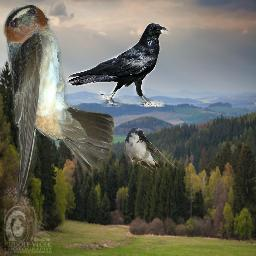Crow: (66, 23, 171, 107)
Swallow: (3, 4, 114, 202), (123, 127, 177, 172)
